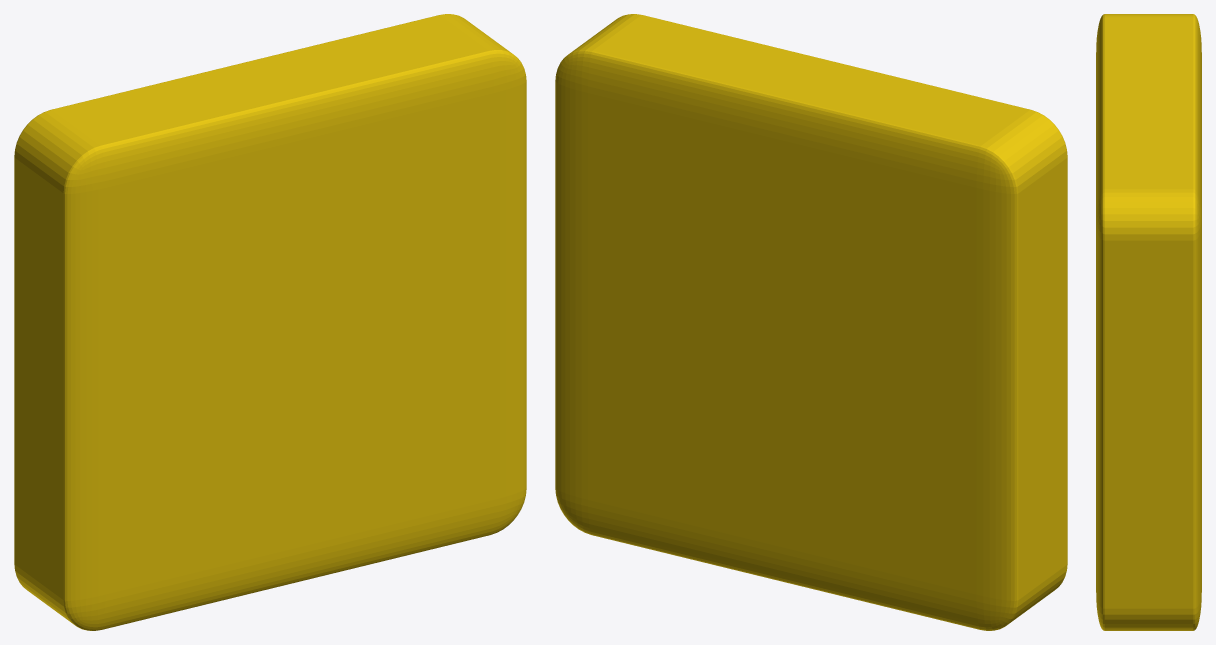
The picture shows the model from 3 angles, left to right: view 1: azimuth 30°, elevation 25°; view 2: azimuth 150°, elevation 25°; view 3: azimuth 270°, elevation 25°; orthographic projection. The views are drawn at different scales.
Parts seen in each view (by area): view 1: JS; view 2: JS; view 3: JS.
Part boxes in pixels (left/top/right/bottom): JS: left=14, top=14, right=526, bottom=630; JS: left=555, top=14, right=1067, bottom=630; JS: left=1096, top=14, right=1201, bottom=630.
Bounding box in the file's own units: 2 × 2 × 0.437.
